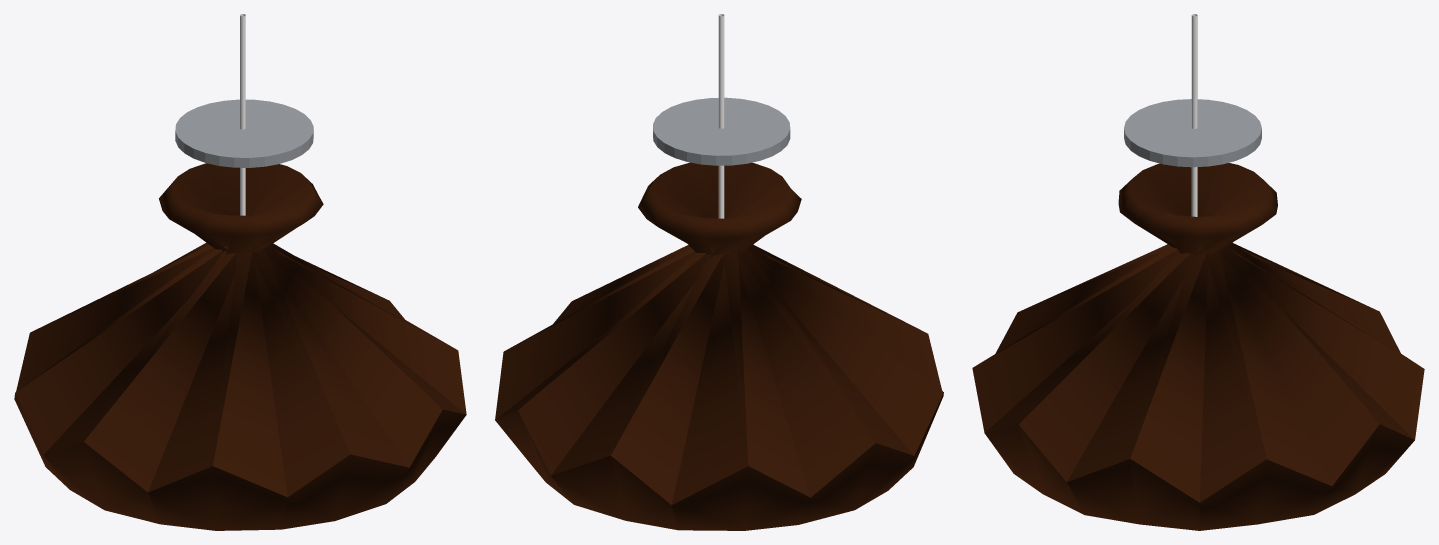
Rendered from ceiling_light.gltf.
The picture shows the model from 3 angles, left to right: view 1: azimuth 30°, elevation 25°; view 2: azimuth 150°, elevation 25°; view 3: azimuth 270°, elevation 25°; orthographic projection.
Parts seen in each view (by area): view 1: Ceiling Light Mount.001; view 2: Ceiling Light Mount.001; view 3: Ceiling Light Mount.001.
Boxes of the visible parts, x1=… form: Ceiling Light Mount.001: x1=14, y1=14, x2=466, y2=530; Ceiling Light Mount.001: x1=495, y1=14, x2=943, y2=530; Ceiling Light Mount.001: x1=972, y1=14, x2=1424, y2=530.
Size of the model in its own units: 5.35 by 5.65 by 5.35.
1 material, 1 textured.
